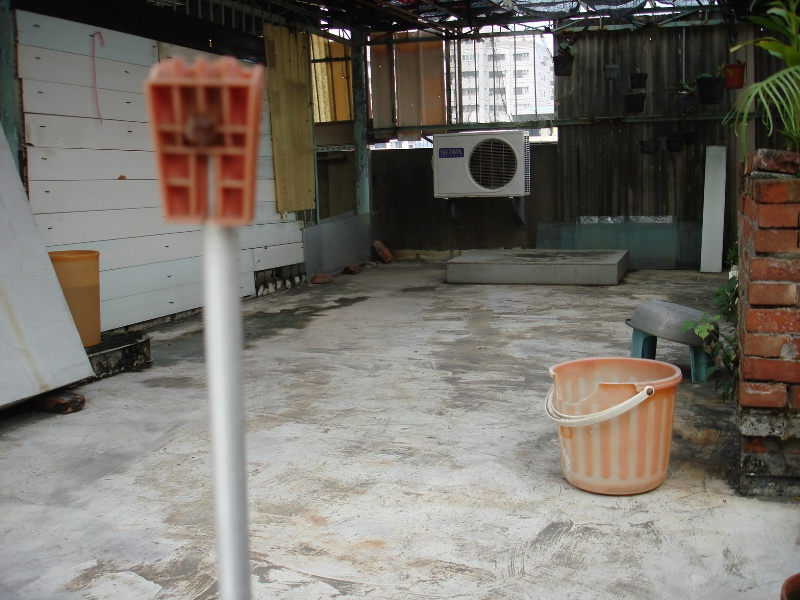bowl: (626, 298, 718, 349)
bucket: (544, 354, 687, 498), (46, 246, 103, 349)
